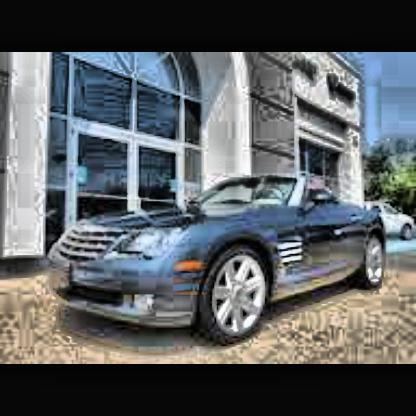Chrysler Crossfire Convertible 2008: (48, 179, 388, 348)
